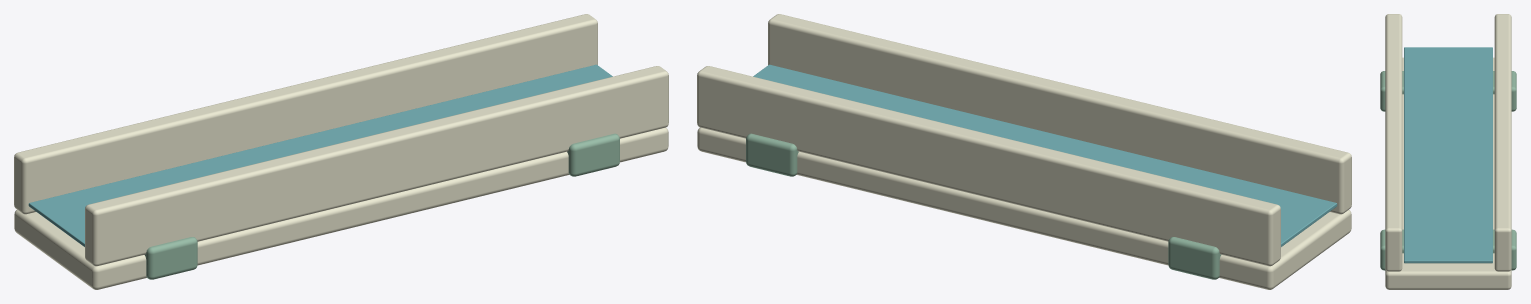
The model's file is enchanted-harp-garden-and-music-sanctuary-channel-spil-ddc525af__30437.glb.
The picture shows the model from 3 angles, left to right: view 1: azimuth 30°, elevation 25°; view 2: azimuth 150°, elevation 25°; view 3: azimuth 270°, elevation 25°; orthographic projection. The views are drawn at different scales.
Parts seen in each view (by area): view 1: channel-spillway; view 2: channel-spillway; view 3: channel-spillway.
Part boxes in pixels (<box>): channel-spillway: <box>14,14,668,289</box>; channel-spillway: <box>697,14,1351,289</box>; channel-spillway: <box>1380,14,1516,289</box>.
Bounding box in the file's own units: 1.5 × 0.2 × 0.4.
